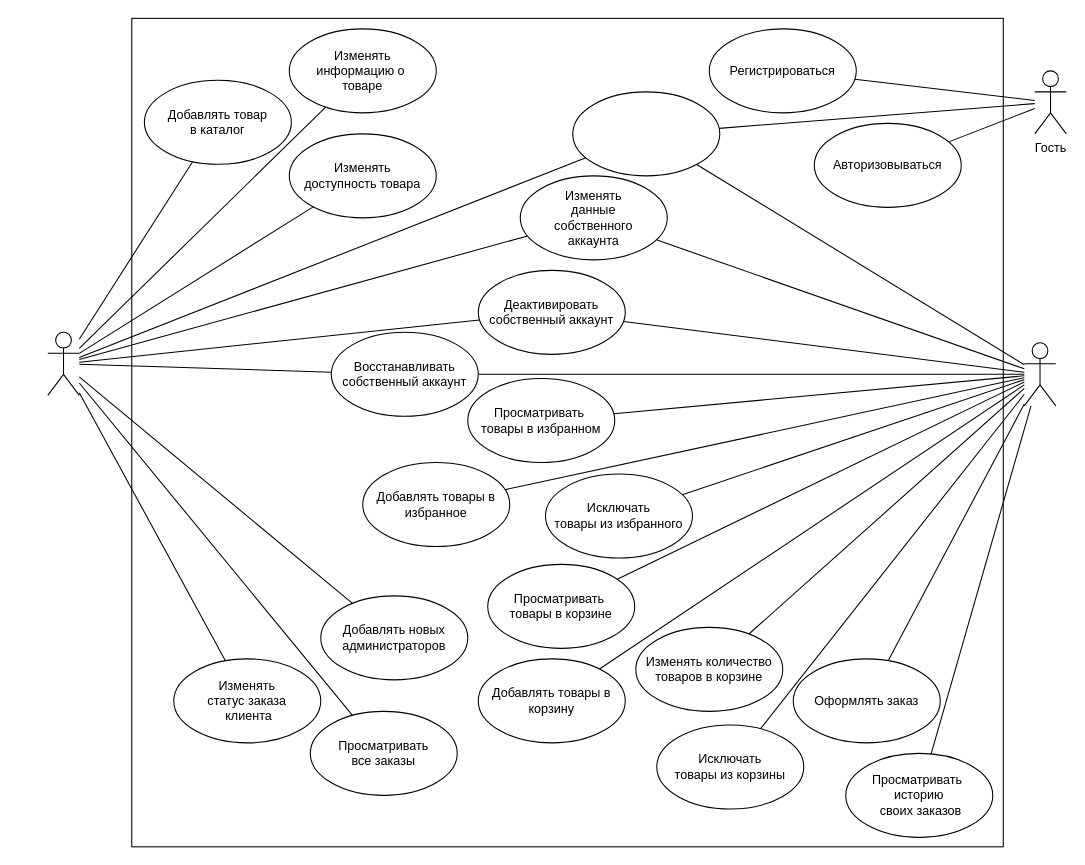
The diagram is 1085 pixels wide and 865 high, and some of its shapes have lost their labels. The shapes that lost their labels are listed below. From the top down, each one's centre as x and y in pixels, then its label:
At [646,133]: "Выполнять поиск товаров в каталоге".
At [63,363]: "Администратор".
At [1039,374]: "Клиент".
